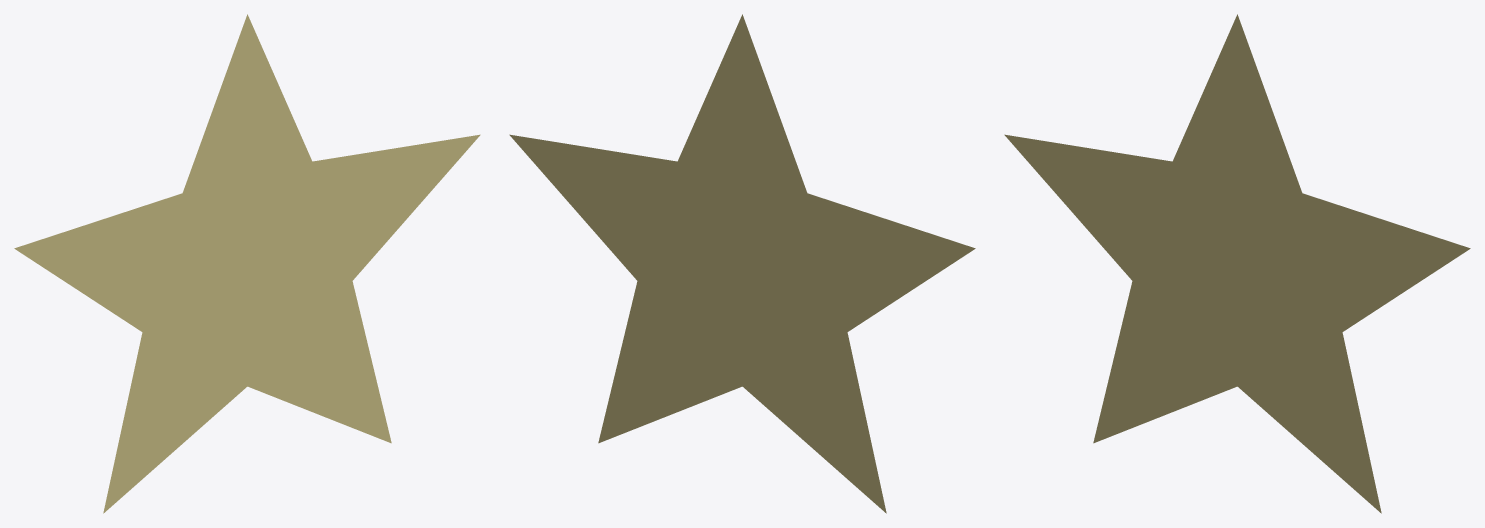
File: FX_Star.glb
3 views of the same model, side by side, from view 1: azimuth 30°, elevation 25°; view 2: azimuth 150°, elevation 25°; view 3: azimuth 330°, elevation 25° (orthographic).
Visible parts, largest first — view 1: FX_Star; view 2: FX_Star; view 3: FX_Star.
Part boxes in pixels (<box>): FX_Star: <box>14,14,480,513</box>; FX_Star: <box>509,14,975,513</box>; FX_Star: <box>1004,14,1470,513</box>.
Size of the model in its own units: 1.9 by 1.81 by 0.
